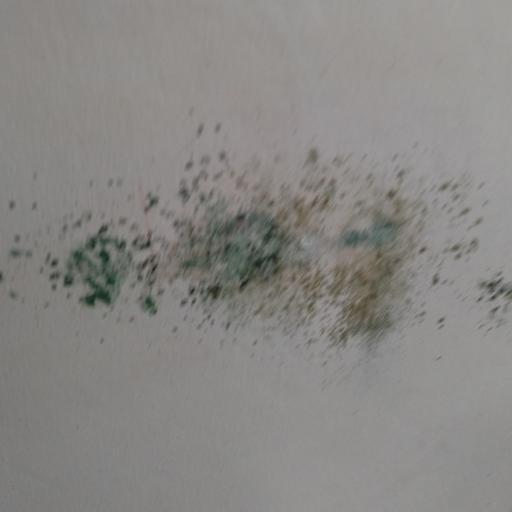algae: (56, 121, 500, 392)
